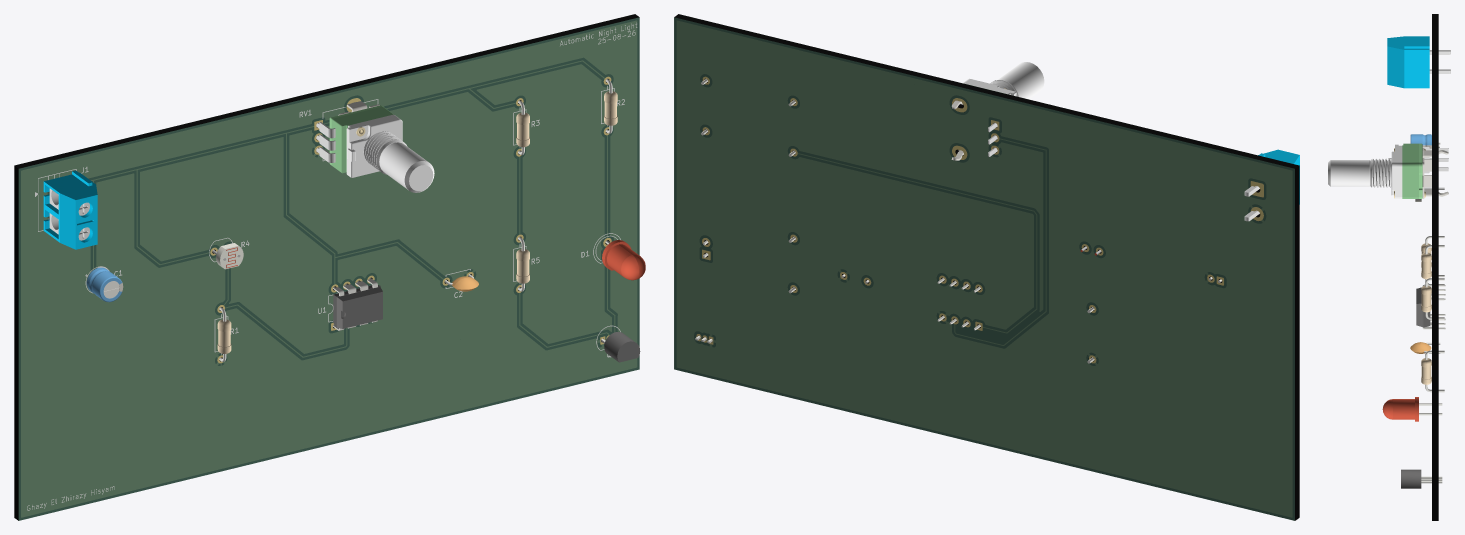
File: Automatic _Night_Light.wrl.glb
The picture shows the model from 3 angles, left to right: view 1: azimuth 30°, elevation 25°; view 2: azimuth 150°, elevation 25°; view 3: azimuth 270°, elevation 25°; orthographic projection. The views are drawn at different scales.
Parts seen in each view (by area): view 1: Node818, Node817, Node815, Node816, Node821, Node199, Node532, Node517, Node747, Node746, Node755; view 2: Node820, Node819, Node815, Node816, Node532; view 3: Node816, Node532, Node749, Node748, Node361, Node746, Node235, Node2, Node356, Node493, Node523, Node525 (+3 smaller).
Boxes of the visible parts, x1=… form: Node818: x1=18, y1=17, x2=639, y2=520; Node817: x1=21, y1=21, x2=636, y2=516; Node815: x1=19, y1=17, x2=638, y2=519; Node816: x1=14, y1=14, x2=639, y2=520; Node821: x1=27, y1=22, x2=637, y2=510; Node199: x1=342, y1=291, x2=382, y2=328; Node532: x1=379, y1=142, x2=428, y2=190; Node517: x1=352, y1=120, x2=402, y2=177; Node747: x1=75, y1=195, x2=97, y2=249; Node746: x1=44, y1=172, x2=97, y2=199; Node755: x1=60, y1=193, x2=75, y2=249; Node820: x1=674, y1=17, x2=1294, y2=520; Node819: x1=677, y1=21, x2=1291, y2=516; Node815: x1=675, y1=17, x2=1295, y2=520; Node816: x1=674, y1=14, x2=1299, y2=520; Node532: x1=998, y1=62, x2=1044, y2=99; Node816: x1=1432, y1=14, x2=1438, y2=520; Node532: x1=1330, y1=160, x2=1369, y2=186; Node749: x1=1404, y1=50, x2=1429, y2=88; Node748: x1=1387, y1=46, x2=1404, y2=88; Node361: x1=1402, y1=166, x2=1418, y2=196; Node746: x1=1387, y1=36, x2=1429, y2=49; Node235: x1=1393, y1=399, x2=1414, y2=419; Node2: x1=1401, y1=469, x2=1421, y2=488; Node356: x1=1402, y1=143, x2=1418, y2=162; Node493: x1=1392, y1=166, x2=1402, y2=196; Node523: x1=1372, y1=159, x2=1391, y2=187; Node525: x1=1372, y1=159, x2=1391, y2=187.
Size of the model in its own units: 35.69 by 19.35 by 7.9.
